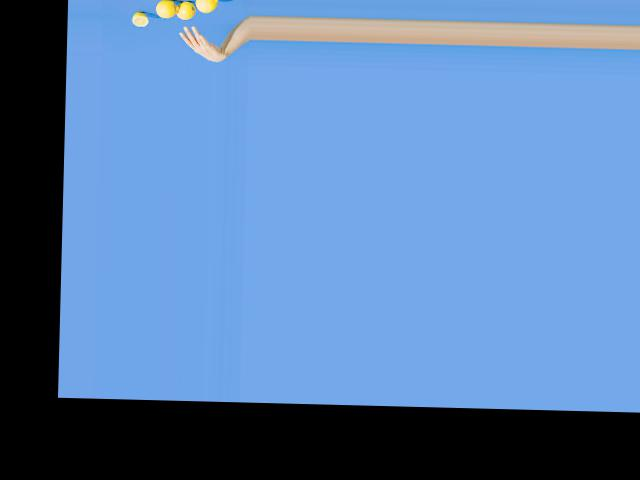lemon: (153, 1, 178, 18)
